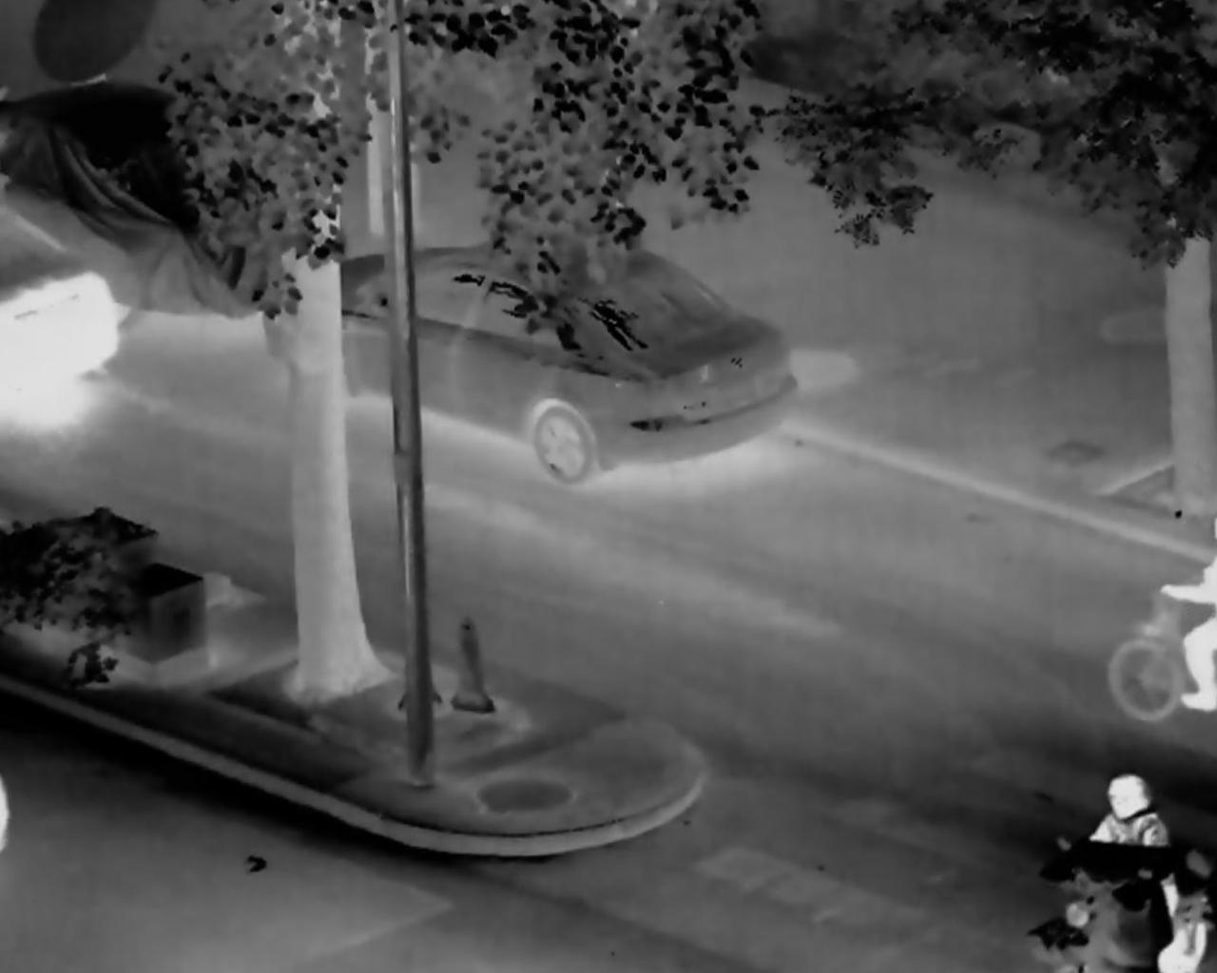person: (1070, 772, 1181, 951), (1159, 515, 1217, 718)
